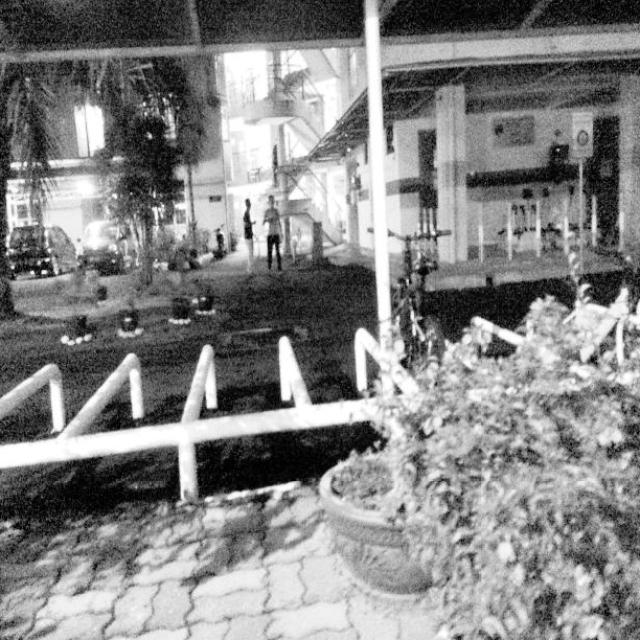Bicycle: (384, 218, 446, 392)
Car: (8, 206, 64, 289), (63, 216, 134, 270)
